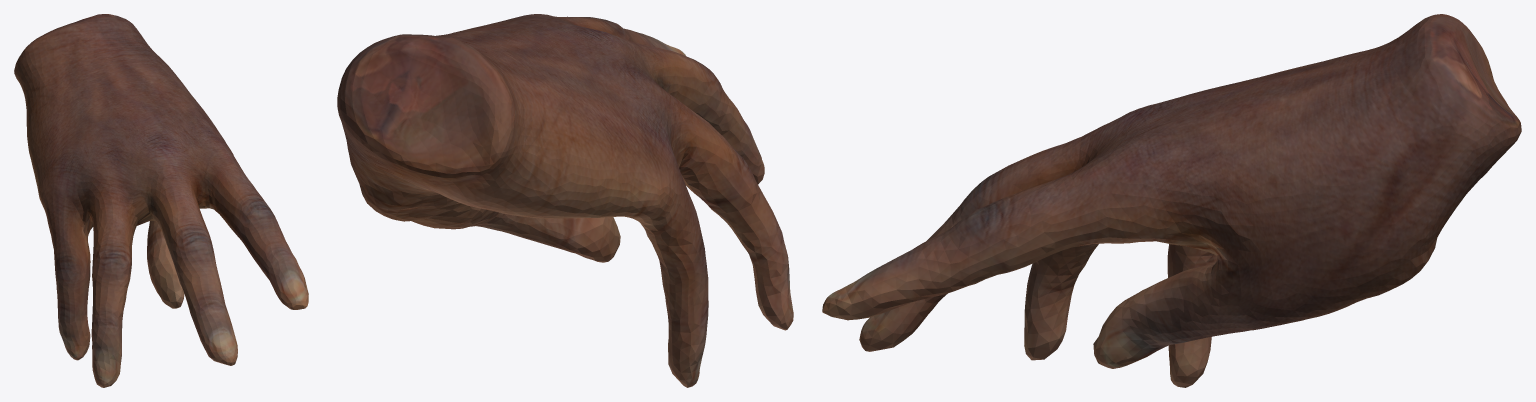
The model's file is rand_0_skin.obj.
The picture shows the model from 3 angles, left to right: view 1: azimuth 30°, elevation 25°; view 2: azimuth 150°, elevation 25°; view 3: azimuth 270°, elevation 25°; orthographic projection. The views are drawn at different scales.
Bounding box in the file's own units: 86.27 × 119 × 177.
1 material, 1 textured.
